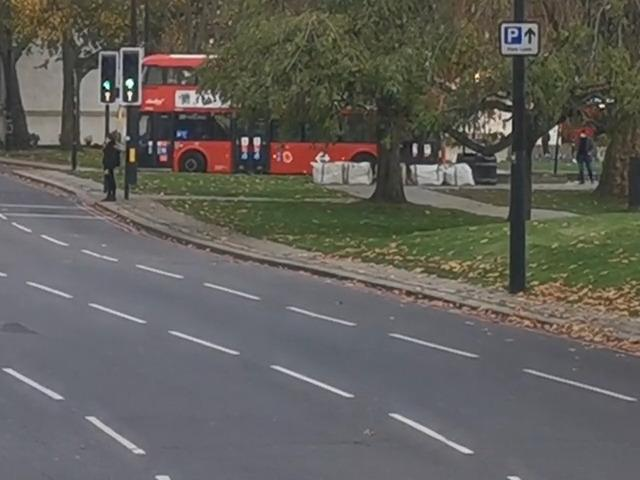bus: (122, 46, 492, 174)
